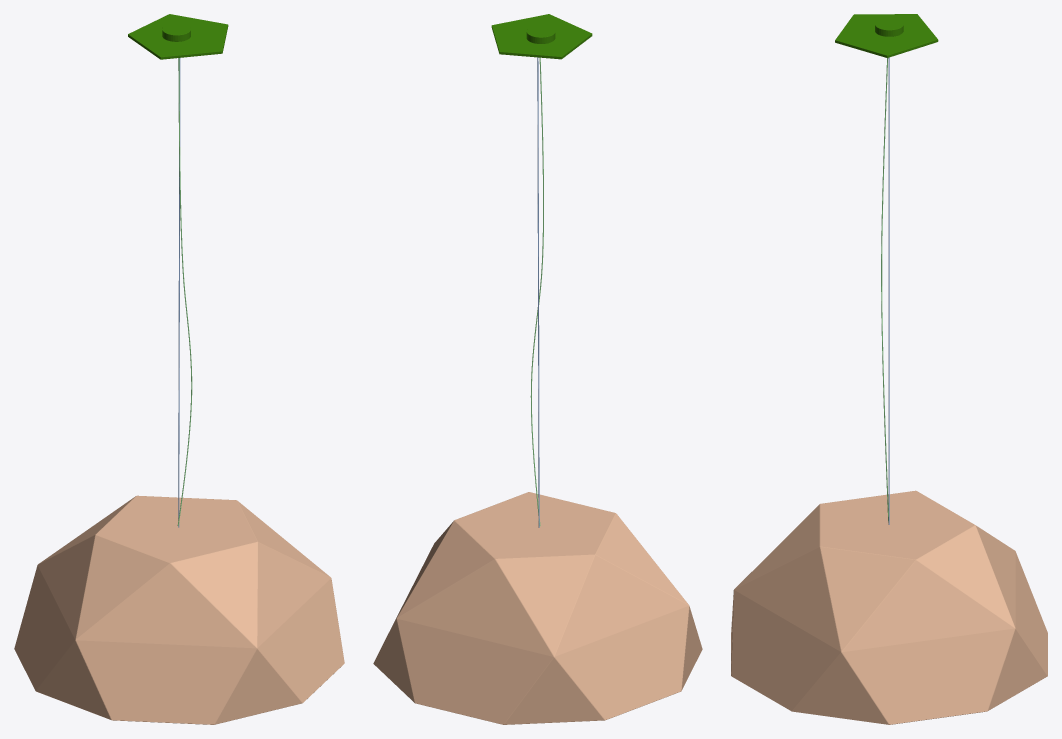
File: Luster D81-A01-01.obj
The picture shows the model from 3 angles, left to right: view 1: azimuth 30°, elevation 25°; view 2: azimuth 150°, elevation 25°; view 3: azimuth 270°, elevation 25°; orthographic projection.
Parts seen in each view (by area): view 1: NGon01, NGon02, Line03, Line02; view 2: NGon01, NGon02, Line02, Line03; view 3: NGon01, NGon02, Line02, Line03.
Boxes of the visible parts, x1,y1,x2,y2 form: NGon01: [14, 495, 344, 724]; NGon02: [128, 14, 228, 59]; Line03: [177, 58, 192, 525]; Line02: [178, 58, 180, 527]; NGon01: [373, 492, 702, 724]; NGon02: [491, 14, 592, 59]; Line02: [537, 57, 539, 527]; Line03: [530, 57, 543, 525]; NGon01: [731, 490, 1047, 724]; NGon02: [835, 14, 938, 57]; Line02: [888, 57, 889, 524]; Line03: [881, 58, 888, 522].
Bounding box in the file's own units: 22.49 × 46.92 × 21.41.
